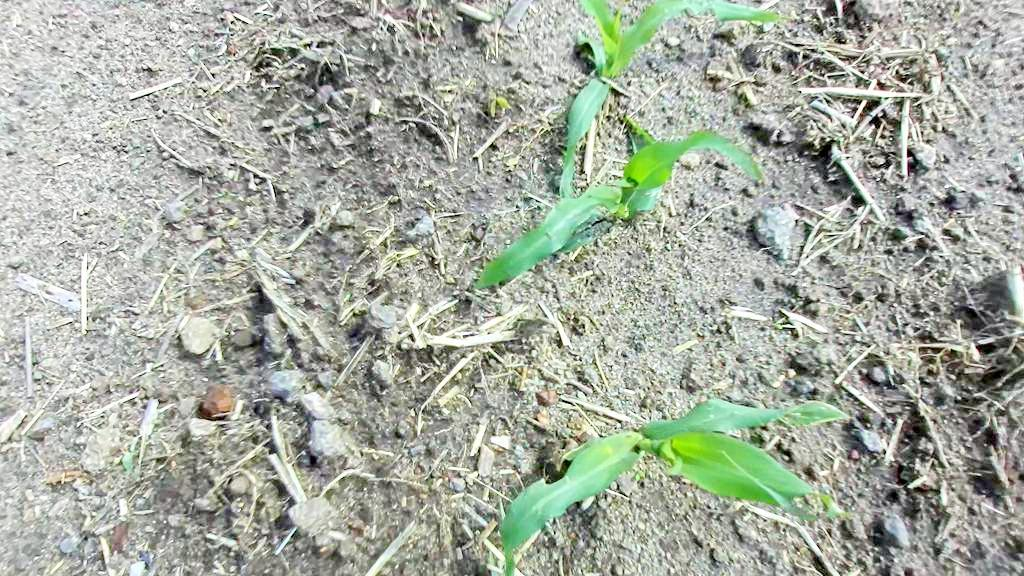BroWeed: (479, 82, 512, 117), (119, 432, 140, 471), (772, 314, 787, 330), (633, 469, 646, 481), (341, 289, 351, 304), (507, 123, 518, 134), (210, 192, 225, 198), (750, 20, 763, 25)
Maize: (482, 376, 867, 576), (436, 78, 762, 292)
